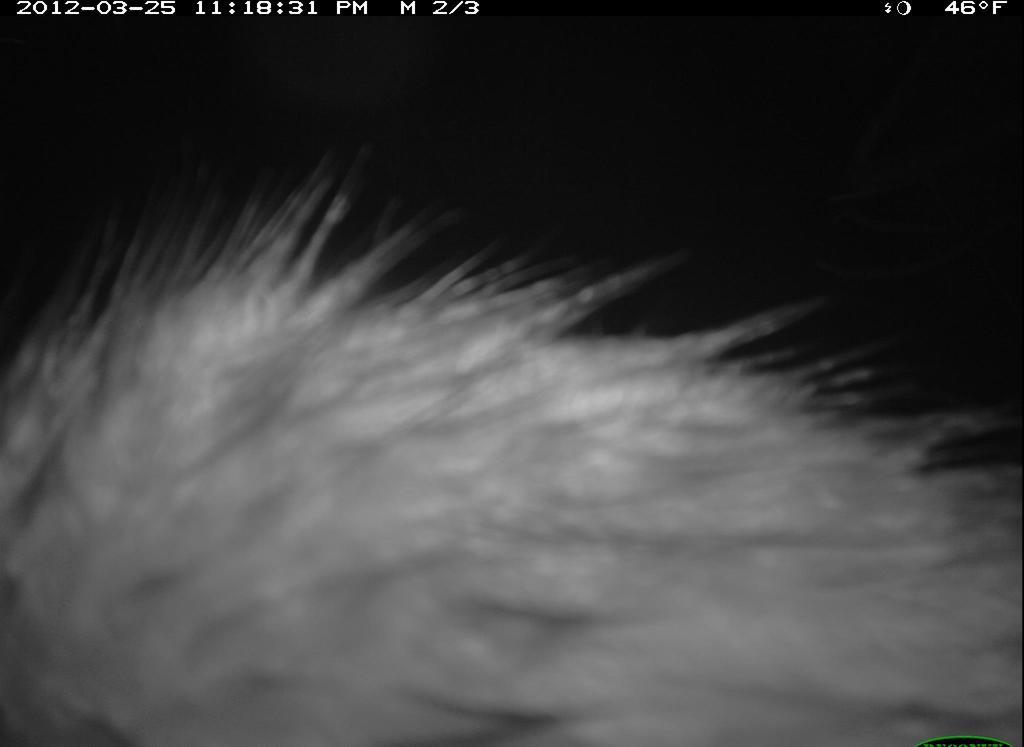raccoon: (9, 146, 1023, 745)
